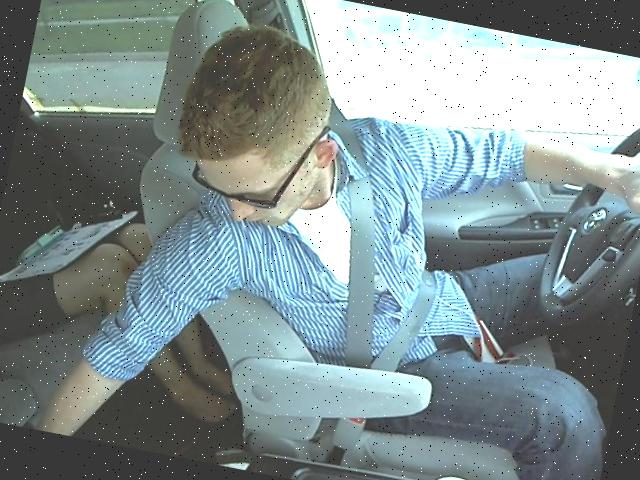c5 - Reaching Behind: (108, 0, 639, 431)
